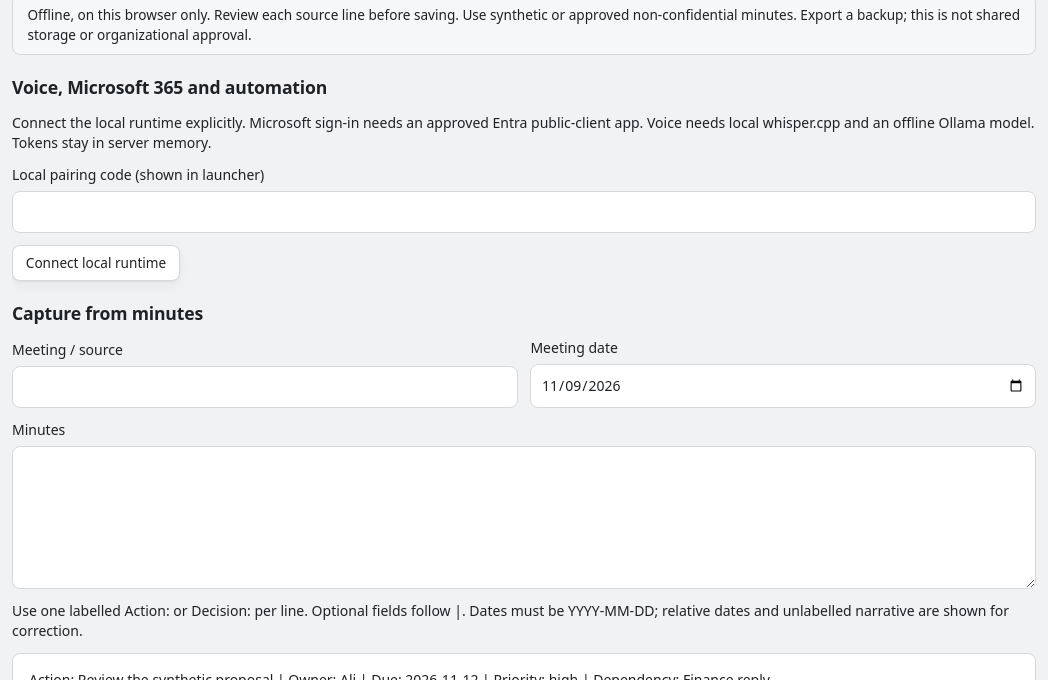
Test: surfaces storage failure without displaying a successful save
Type "Synthetic minutes" into the field labelled "Meeting / source" at (265, 387), box [12, 366, 518, 408]
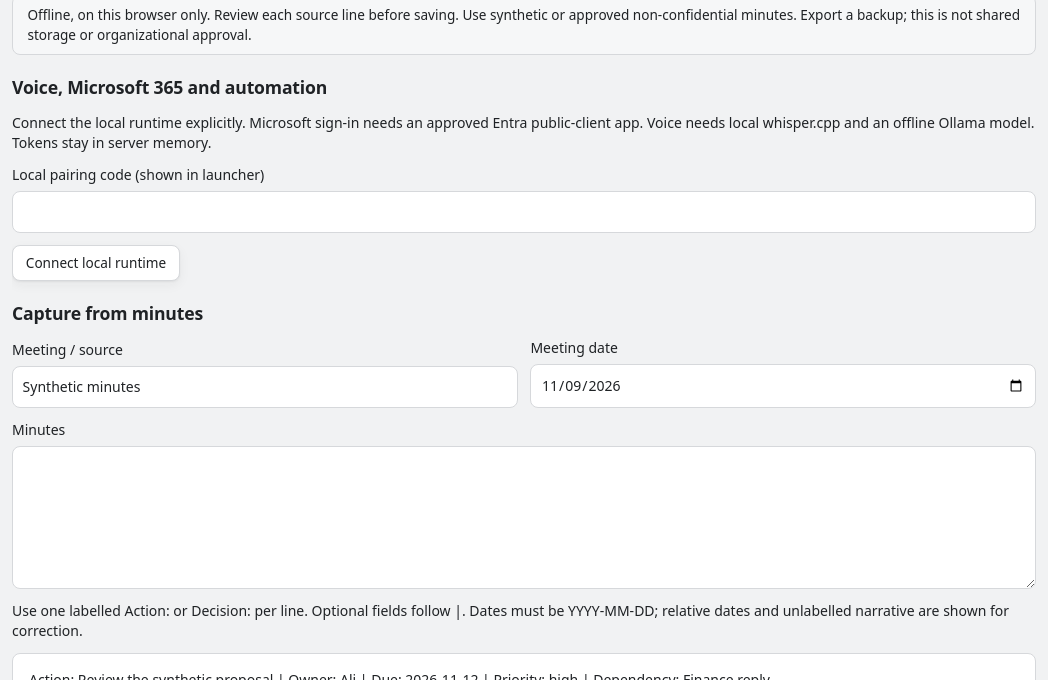
Type "Action: Review test proposal | Owner: Ali | Due: 2026-11-01" into the text box labelled "Minutes" at (524, 517), box [12, 446, 1036, 589]
(page scrolled)
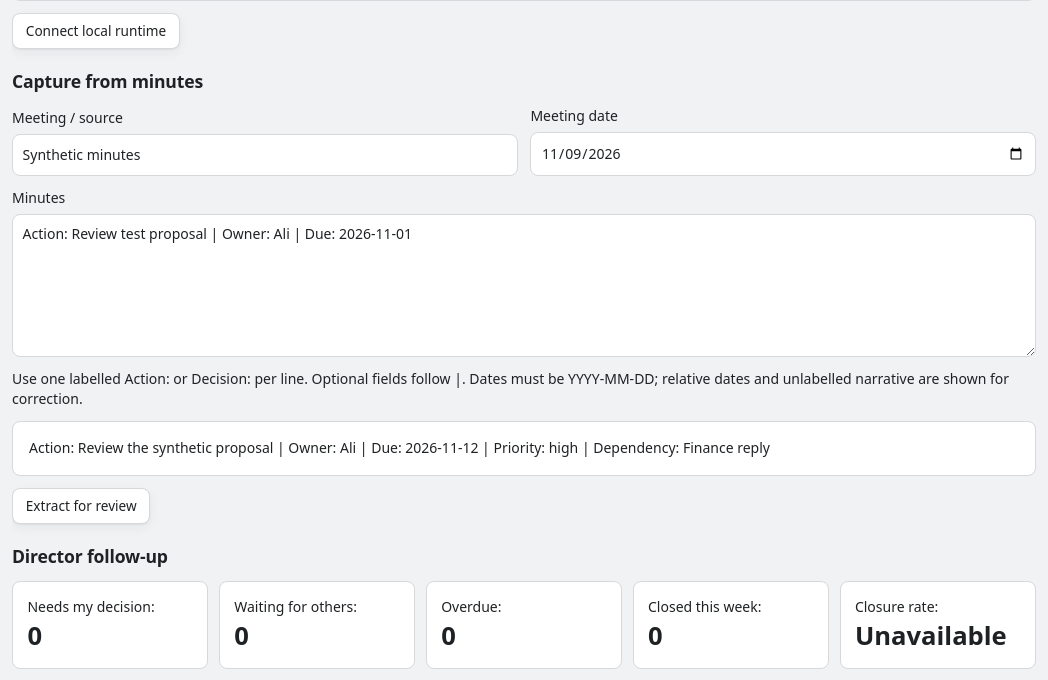
Submit the form named "Extract for review"
(page scrolled)
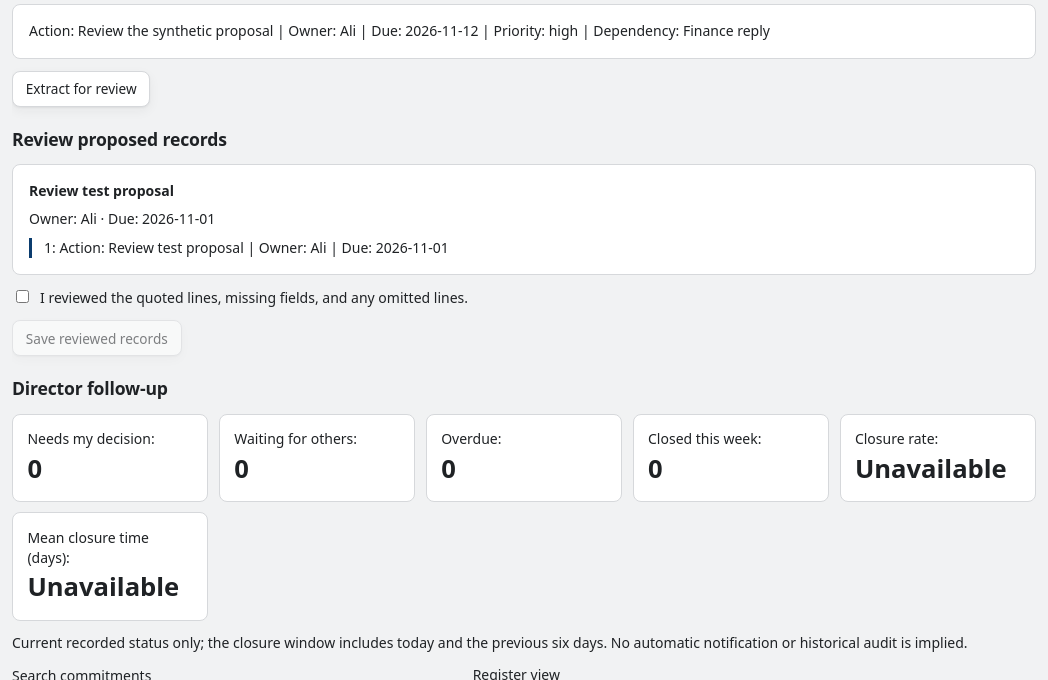
Click the checkbox at (22, 296), box [16, 290, 29, 303]
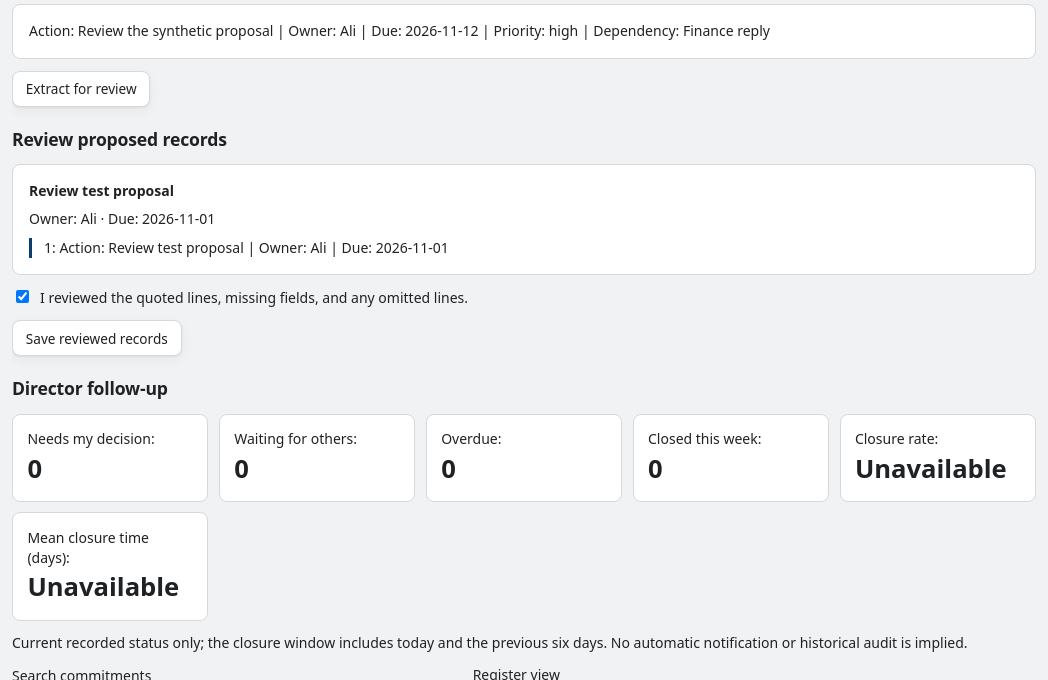
Click the button "Save reviewed records" at (97, 338), box [12, 320, 182, 356]
(page scrolled)
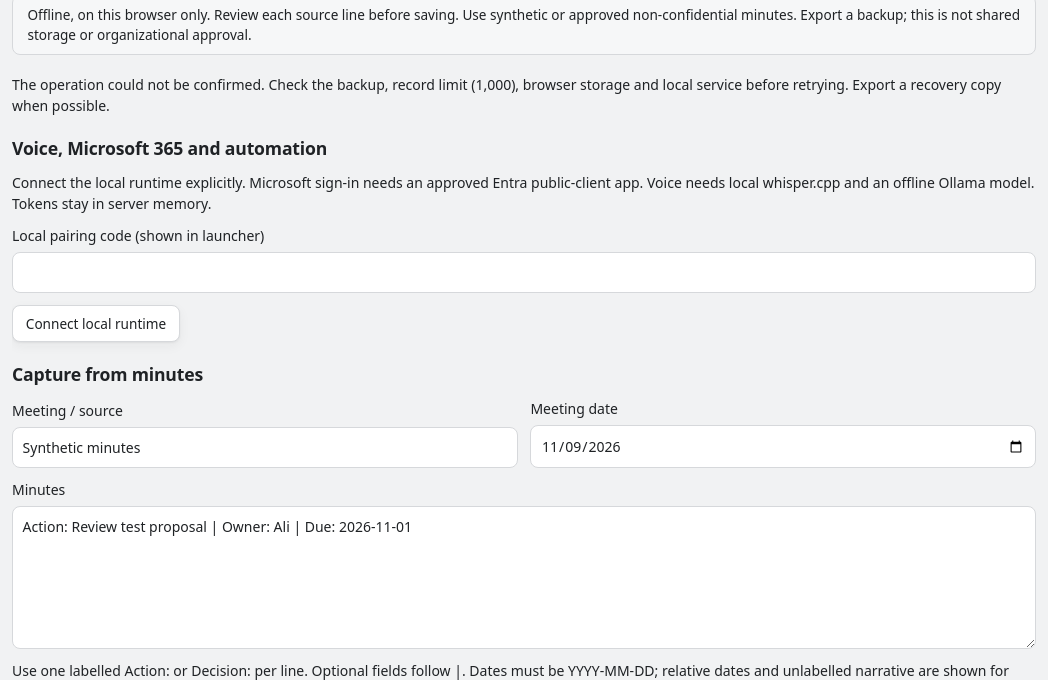
Expected: the message is shown, [12, 75, 1036, 116]
